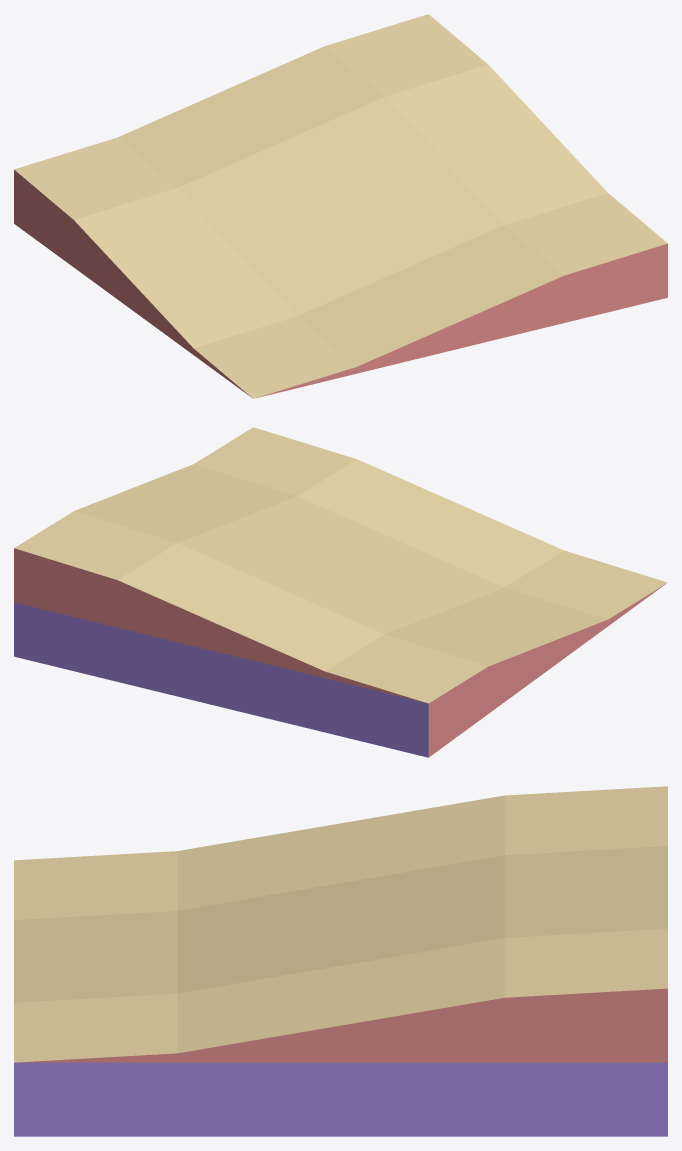
The model's file is Terrain_Sand_Incline_Overlapping_4x4.glb.
3 renders of one model, top to bottom at view 1: azimuth 30°, elevation 25°; view 2: azimuth 150°, elevation 25°; view 3: azimuth 270°, elevation 25°, orthographic. The views are drawn at different scales.
Visible parts, largest first — view 1: Terrain_Sand_Incline_Overlapping_4x4; view 2: Terrain_Sand_Incline_Overlapping_4x4; view 3: Terrain_Sand_Incline_Overlapping_4x4.
Boxes of the visible parts, left/top/right/bottom form: Terrain_Sand_Incline_Overlapping_4x4: left=14, top=14, right=667, bottom=398; Terrain_Sand_Incline_Overlapping_4x4: left=14, top=427, right=667, bottom=757; Terrain_Sand_Incline_Overlapping_4x4: left=14, top=786, right=667, bottom=1136.
Size of the model in its own units: 400 by 100 by 400.
